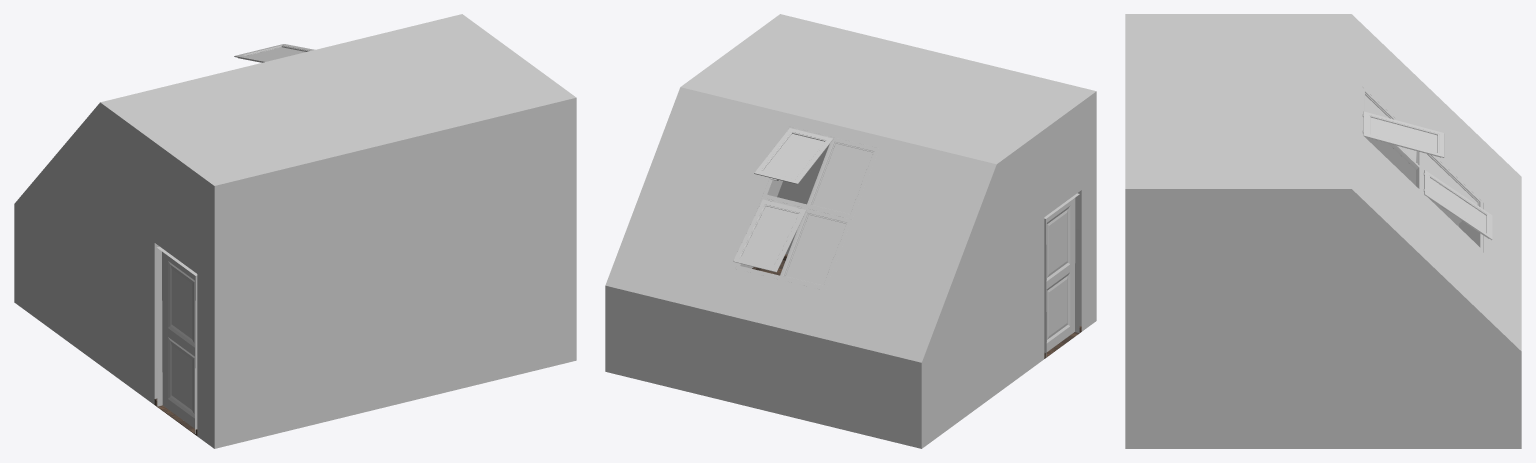
The model's file is room.gltf.
3 renders of one model, left to right at view 1: azimuth 30°, elevation 25°; view 2: azimuth 150°, elevation 25°; view 3: azimuth 270°, elevation 25°, orthographic. The views are drawn at different scales.
Visible parts, largest first — view 1: Arch_Walls, Arch_Windows; view 2: Arch_Walls, Arch_Windows; view 3: Arch_Walls, Arch_Windows.
Part boxes in pixels (x1=…): Arch_Walls: x1=14, y1=14, x2=576, y2=448; Arch_Windows: x1=156, y1=44, x2=314, y2=433; Arch_Walls: x1=605, y1=14, x2=1096, y2=448; Arch_Windows: x1=733, y1=126, x2=1079, y2=356; Arch_Walls: x1=1125, y1=14, x2=1521, y2=448; Arch_Windows: x1=1361, y1=86, x2=1492, y2=251.
Bounding box in the file's own units: 4.9 × 3.4 × 4.69.
6 materials, 3 textured.
